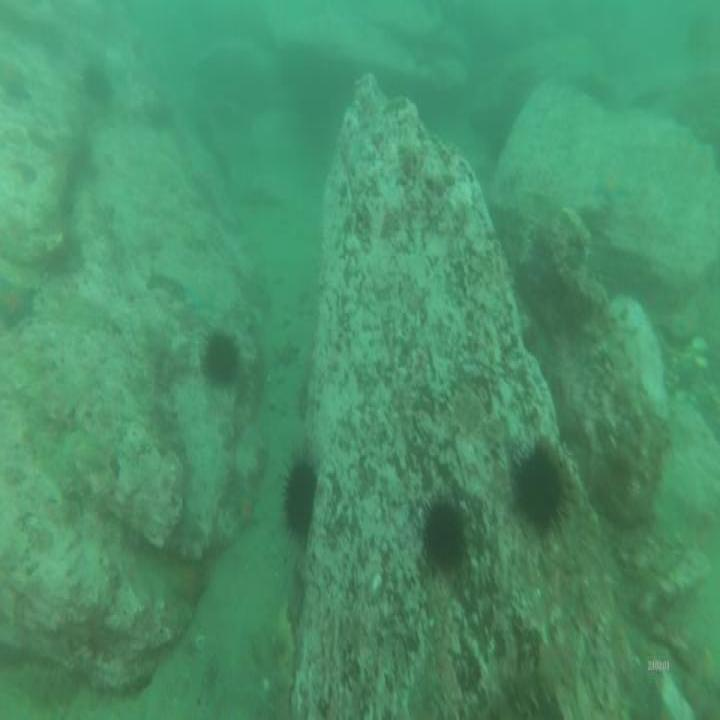echinus: (515, 453, 560, 528), (425, 500, 467, 572), (284, 458, 314, 538), (200, 338, 236, 380), (80, 62, 112, 107)
holothurian: (272, 604, 295, 692)
starfish: (2, 284, 35, 326), (177, 565, 203, 608), (235, 490, 258, 530)
